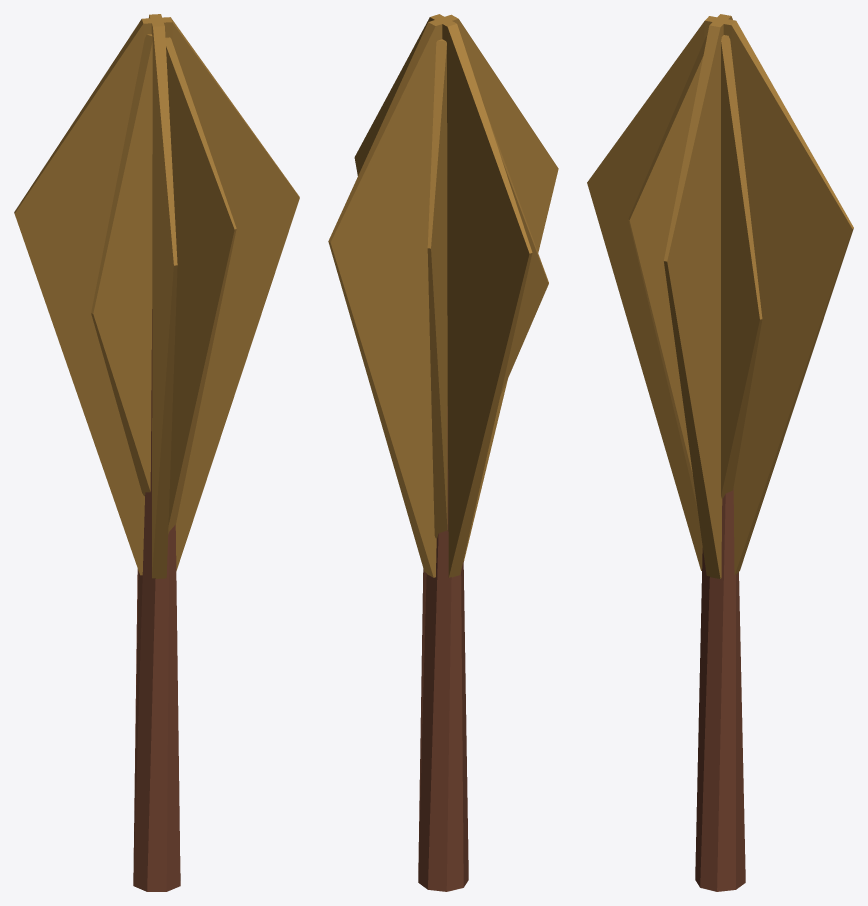
Rendered from Tree_31_autumn_vc.fbx.
3 views of the same model, side by side, from view 1: azimuth 30°, elevation 25°; view 2: azimuth 150°, elevation 25°; view 3: azimuth 270°, elevation 25° (orthographic).
Parts seen in each view (by area): view 1: Tree_31_autumn_vc; view 2: Tree_31_autumn_vc; view 3: Tree_31_autumn_vc.
Boxes of the visible parts, bbox=[...] form: Tree_31_autumn_vc: bbox=[14, 14, 299, 891]; Tree_31_autumn_vc: bbox=[328, 14, 558, 891]; Tree_31_autumn_vc: bbox=[587, 14, 853, 891].
Bounding box in the file's own units: 2.2 × 7.83 × 2.2.
